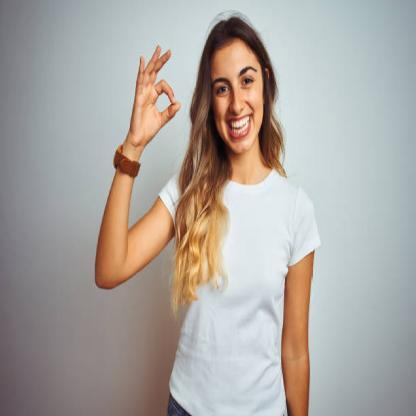ok: (129, 41, 183, 150)
